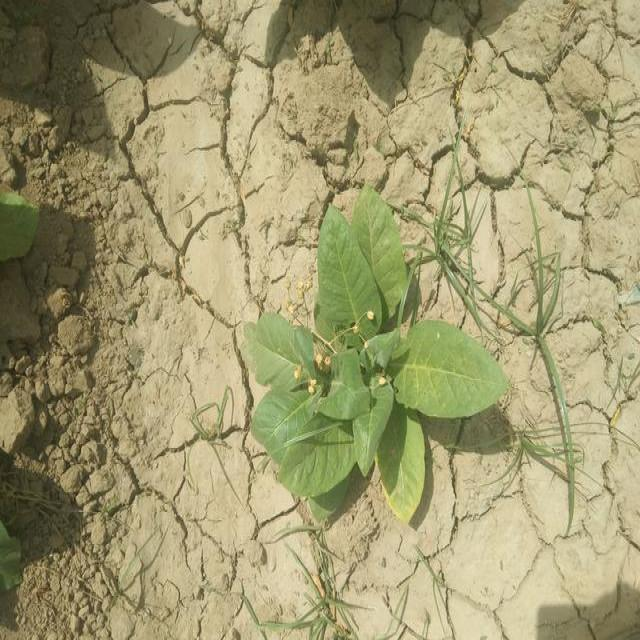crop: (246, 202, 514, 508)
